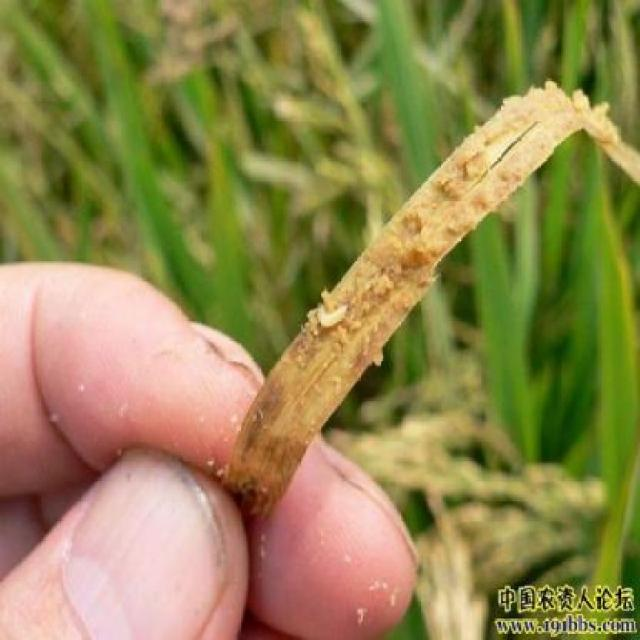whorl-maggot: (312, 302, 356, 336)
